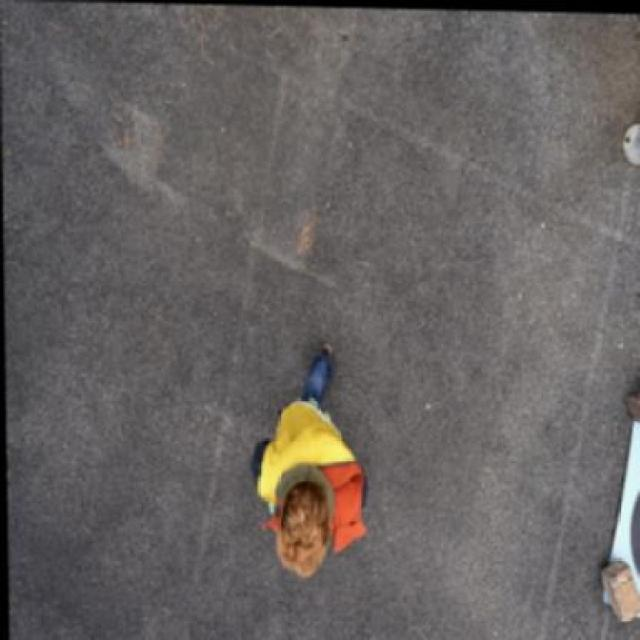Person: (238, 333, 374, 590)
